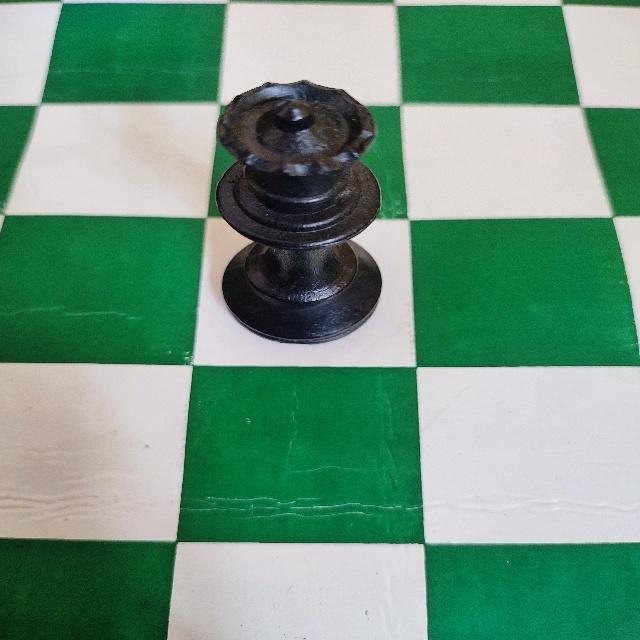Queen: (212, 76, 400, 352)
